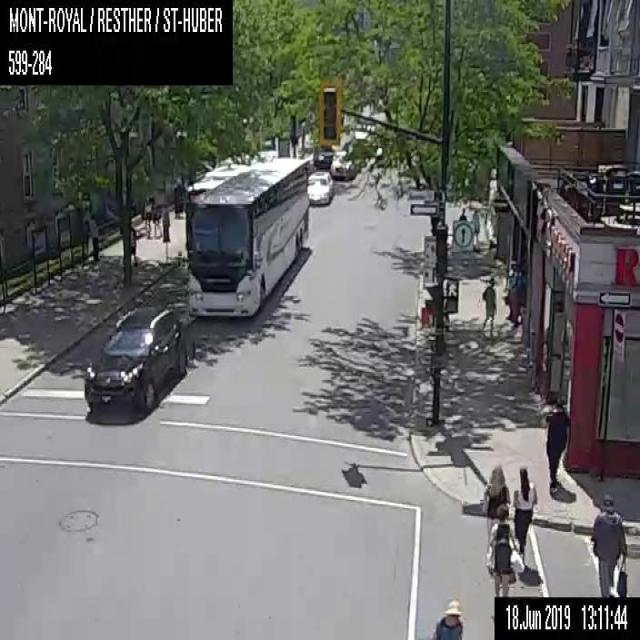bus: (184, 158, 309, 316)
pedestrian: (590, 493, 627, 595), (480, 463, 511, 575), (485, 506, 523, 596), (511, 465, 537, 565), (544, 399, 569, 493), (428, 596, 463, 639), (481, 274, 496, 337), (90, 222, 100, 262), (472, 207, 480, 250), (129, 223, 136, 265), (152, 209, 161, 236), (144, 211, 151, 236), (459, 206, 466, 220)
vehicle: (82, 306, 194, 419), (306, 170, 333, 203), (331, 150, 356, 180), (312, 143, 335, 167)
